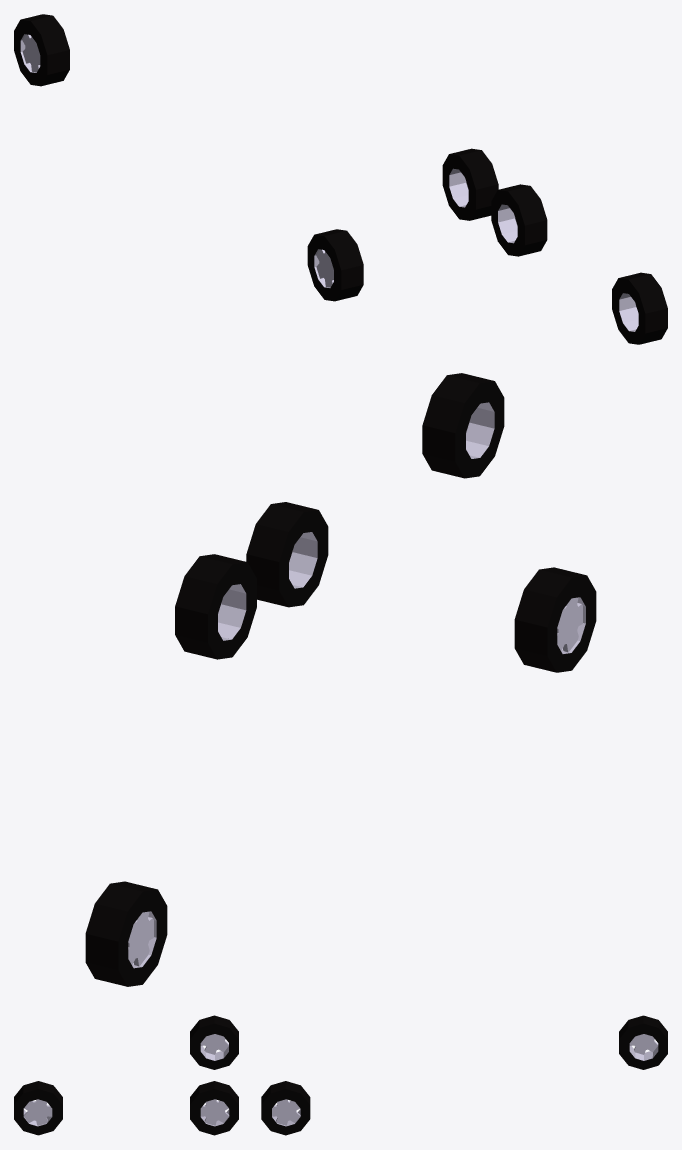
File: Truck_with_trailer_wheel_front_left.gltf
3 views of the same model, one above another, from view 1: azimuth 30°, elevation 25°; view 2: azimuth 150°, elevation 25°; view 3: azimuth 270°, elevation 25° (orthographic). The views are drawn at different scales.
Parts seen in each view (by area): view 1: Truck_with_trailer_wheel_rear_left, Truck_with_trailer_wheel_rear_right, Truck_with_trailer_wheel_front_left, Truck_with_trailer_wheel_rear_right_3, Truck_with_trailer_wheel_rear_left_2; view 2: Truck_with_trailer_wheel_rear_right, Truck_with_trailer_wheel_rear_right_3, Truck_with_trailer_wheel_front_left, Truck_with_trailer_wheel_rear_left_2, Truck_with_trailer_wheel_rear_left; view 3: Truck_with_trailer_wheel_rear_left_2, Truck_with_trailer_wheel_front_left, Truck_with_trailer_wheel_rear_left, Truck_with_trailer_wheel_rear_right, Truck_with_trailer_wheel_rear_right_3.
Boxes of the visible parts, left/top/right/bottom form: Truck_with_trailer_wheel_rear_left: left=491, top=184, right=547, bottom=256; Truck_with_trailer_wheel_rear_right: left=307, top=229, right=363, bottom=301; Truck_with_trailer_wheel_front_left: left=612, top=272, right=667, bottom=344; Truck_with_trailer_wheel_rear_right_3: left=14, top=14, right=69, bottom=86; Truck_with_trailer_wheel_rear_left_2: left=442, top=148, right=498, bottom=220; Truck_with_trailer_wheel_rear_right: left=514, top=567, right=596, bottom=672; Truck_with_trailer_wheel_rear_right_3: left=85, top=881, right=167, bottom=986; Truck_with_trailer_wheel_front_left: left=422, top=373, right=504, bottom=478; Truck_with_trailer_wheel_rear_left_2: left=175, top=554, right=256, bottom=659; Truck_with_trailer_wheel_rear_left: left=246, top=502, right=328, bottom=607; Truck_with_trailer_wheel_rear_left_2: left=261, top=1081, right=310, bottom=1135; Truck_with_trailer_wheel_front_left: left=14, top=1081, right=62, bottom=1135; Truck_with_trailer_wheel_rear_left: left=190, top=1081, right=238, bottom=1135; Truck_with_trailer_wheel_rear_right: left=190, top=1015, right=238, bottom=1069; Truck_with_trailer_wheel_rear_right_3: left=619, top=1015, right=667, bottom=1069.
Bounding box in the file's own units: 278 × 82.12 × 1046.
